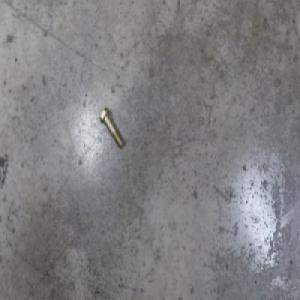Bolt: (98, 107, 123, 150)
